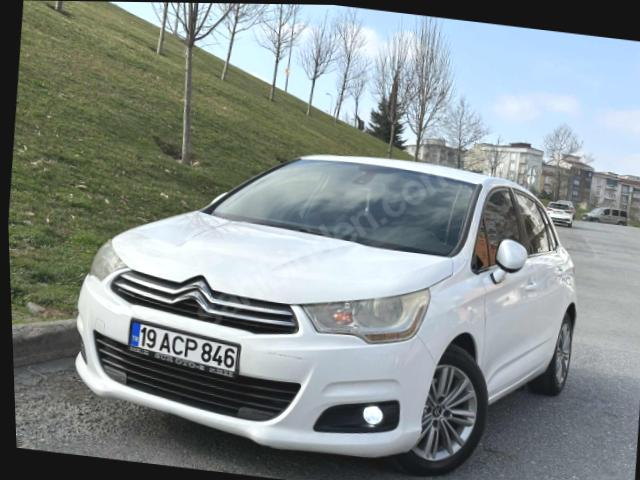plaka: (129, 322, 239, 376)
